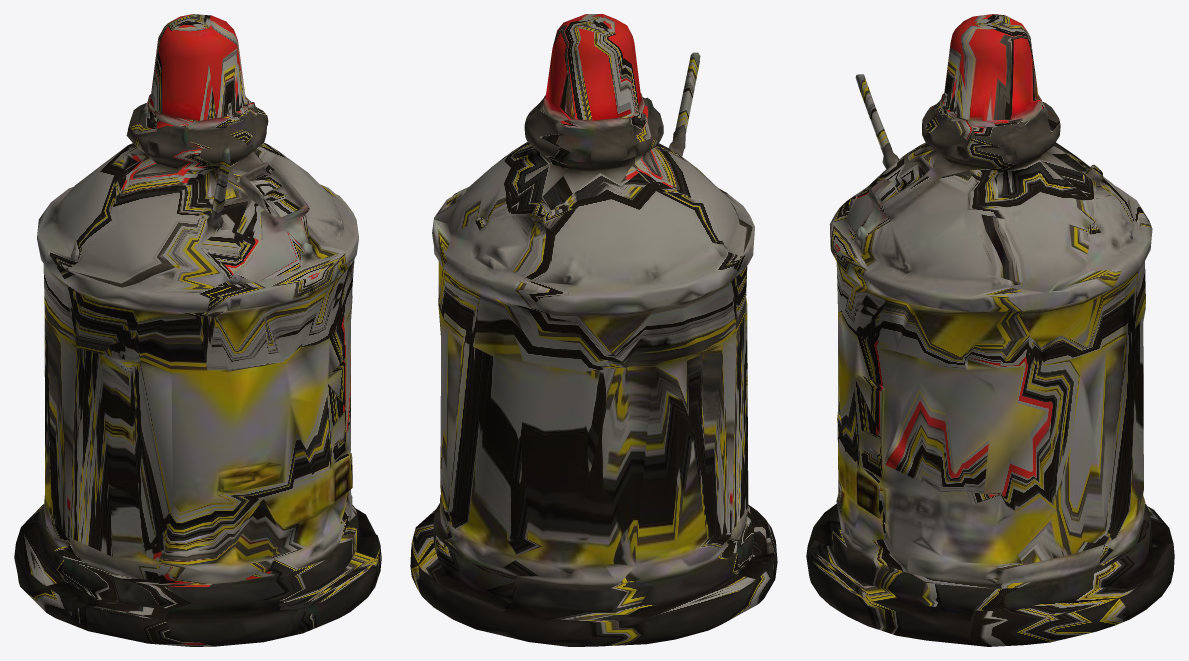
Rendered from blast_charge.glb.
3 views of the same model, side by side, from view 1: azimuth 30°, elevation 25°; view 2: azimuth 150°, elevation 25°; view 3: azimuth 270°, elevation 25° (orthographic).
Visible parts, largest first — view 1: tripo_node_fecb86b1-1ed7-4f30-bd8e-2218215af7cc; view 2: tripo_node_fecb86b1-1ed7-4f30-bd8e-2218215af7cc; view 3: tripo_node_fecb86b1-1ed7-4f30-bd8e-2218215af7cc.
Boxes of the visible parts, <box> form: tripo_node_fecb86b1-1ed7-4f30-bd8e-2218215af7cc: <box>14,14,381,646</box>; tripo_node_fecb86b1-1ed7-4f30-bd8e-2218215af7cc: <box>410,14,777,646</box>; tripo_node_fecb86b1-1ed7-4f30-bd8e-2218215af7cc: <box>806,14,1174,646</box>.
Size of the model in its own units: 0.6064 by 0.9997 by 0.6083.
1 material, 1 textured.
